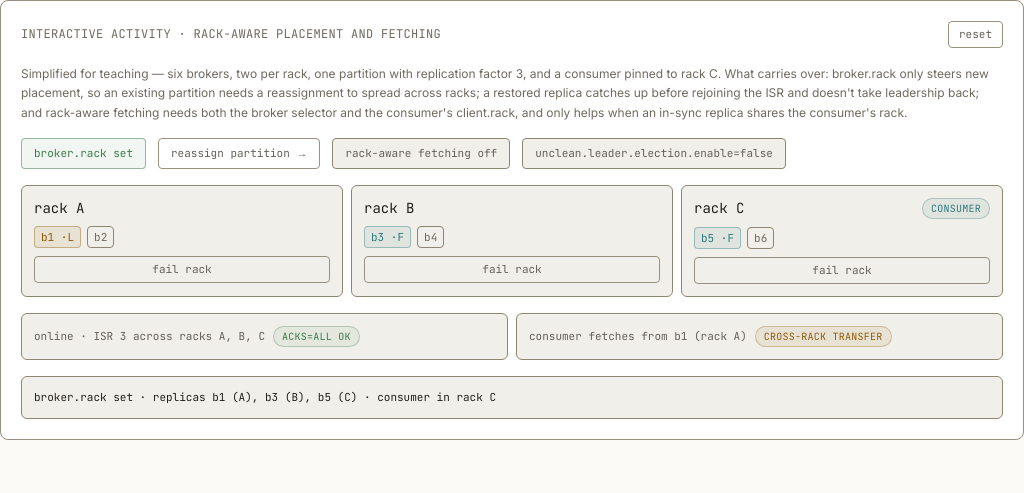
RackPlacementDemo › rack-aware fetching removes cross-rack transfer for a same-rack replica
The image size is (1024, 493).
Expected: the text "cross-rack transfer" is shown, [755,326,892,346]
Step 1. Click the button "rack-aware fetching off" → x=421, y=153, box [332,138,510,168]
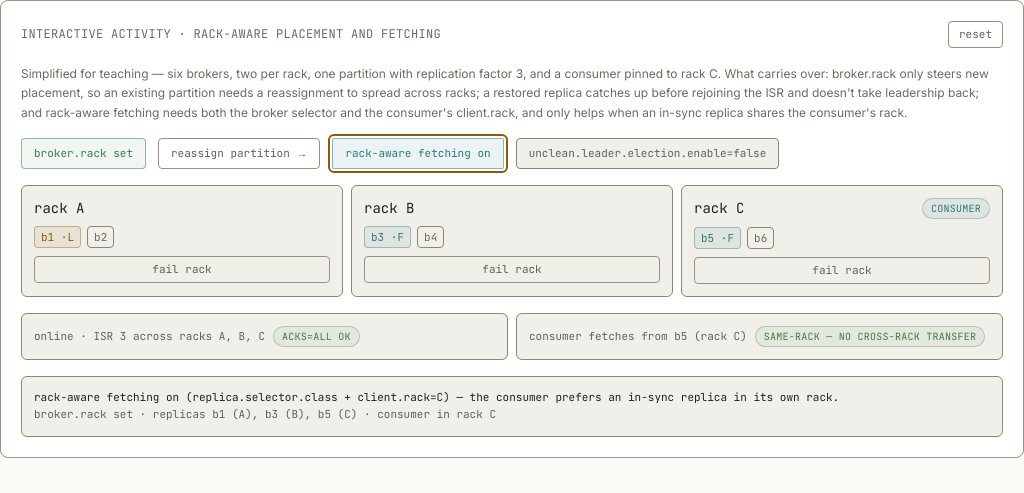
Expected: the text with test id "fetch-status" shows "fetches from b5 (rack C)", [529,329,747,343]
Expected: the text "same-rack — no cross-rack transfer" is shown, [755,326,985,346]
Step 2. Click the 3rd button "fail rack" → x=842, y=270, box [694,257,990,284]
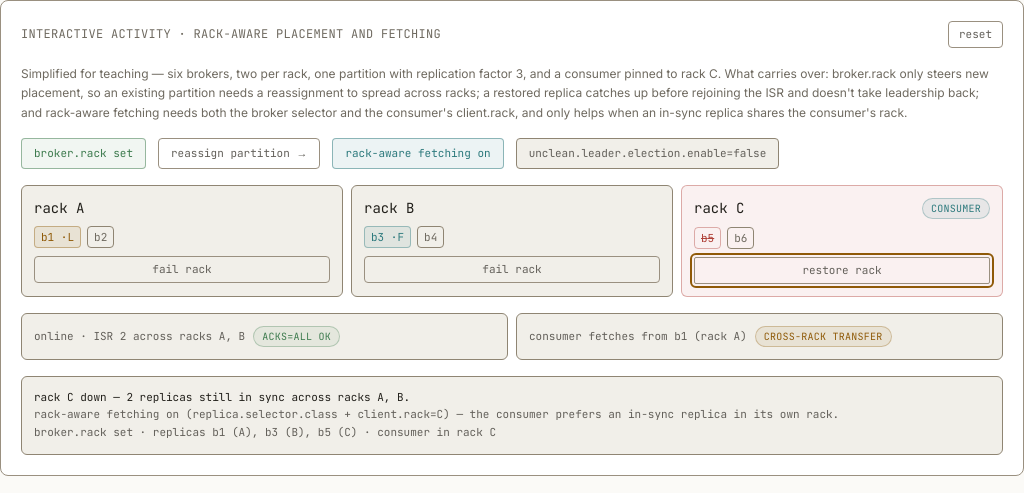
Expected: the text "cross-rack transfer" is shown, [755,326,892,346]
Expected: the text with test id "fetch-status" shows "fetches from b1 (rack A)", [529,329,747,343]
